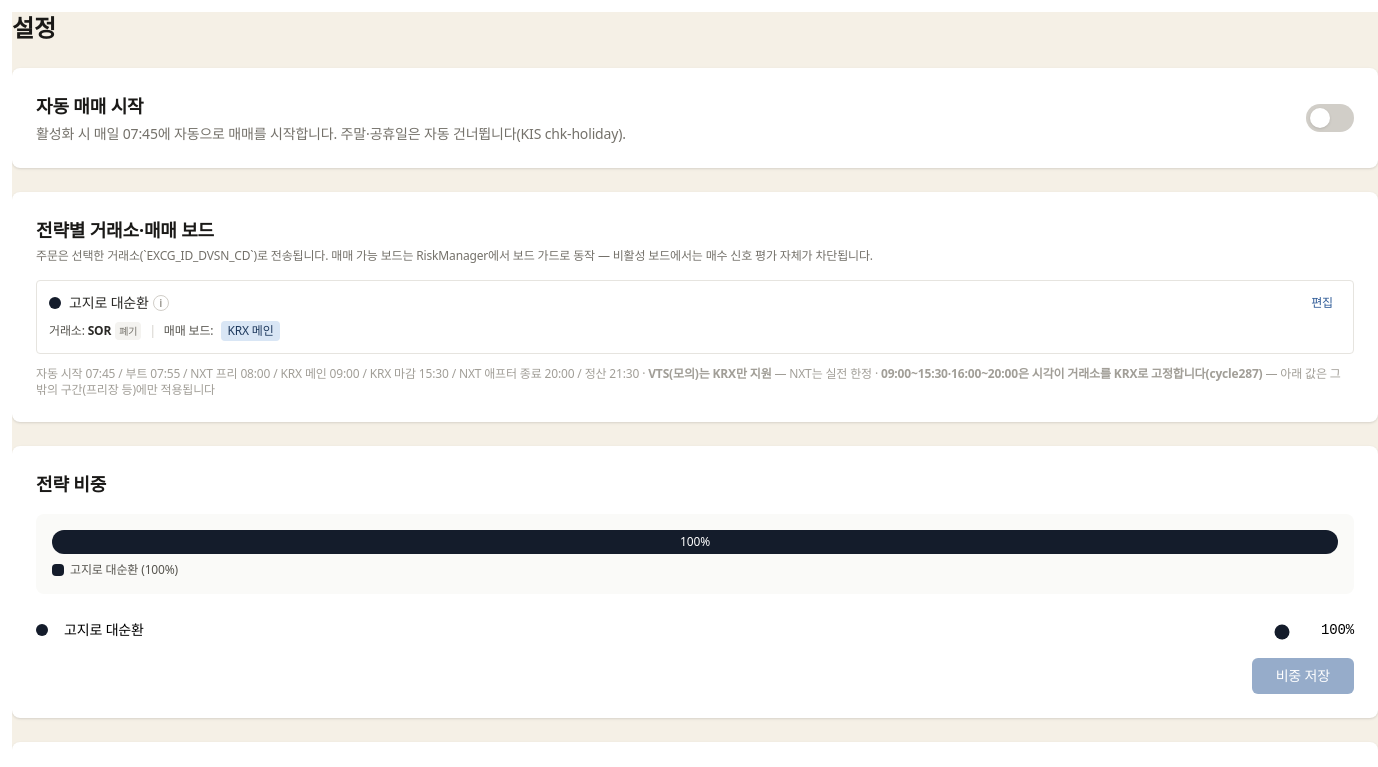
Test case: cycle287 — ExchangeBoardRow 렌더 (SOR 저장값 폐기 배지) › 편집을 열면 라디오는 KRX·NXT 2개뿐이고 SOR 라벨이 없다
Click the button "편집" at (1322, 303), box top-left (1303, 293), bottom-right (1341, 313)
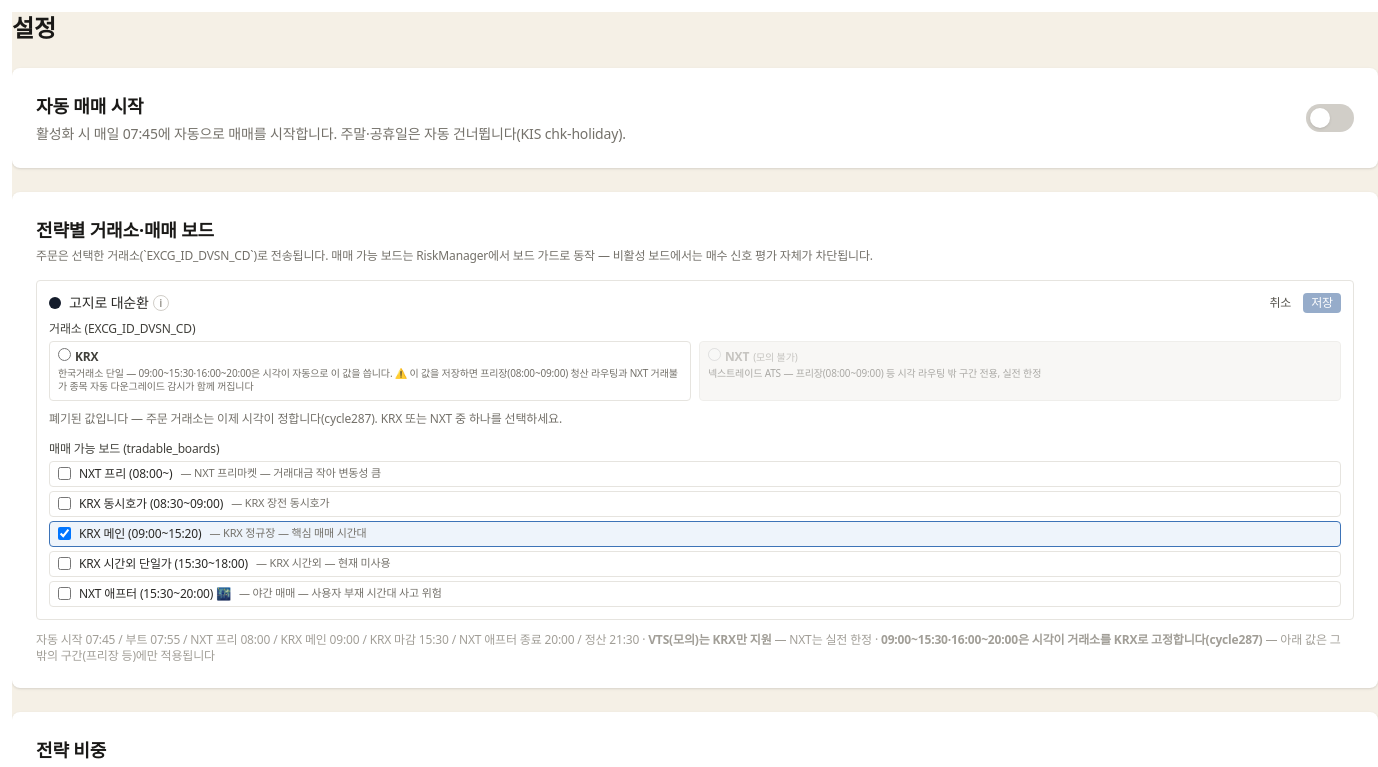
Now the 1st radio button does not hold "SOR", box top-left (58, 348), bottom-right (71, 361)
Now the text "SOR" is gone
Now the text "폐기된 값입니다" is shown, box top-left (49, 410), bottom-right (562, 427)
